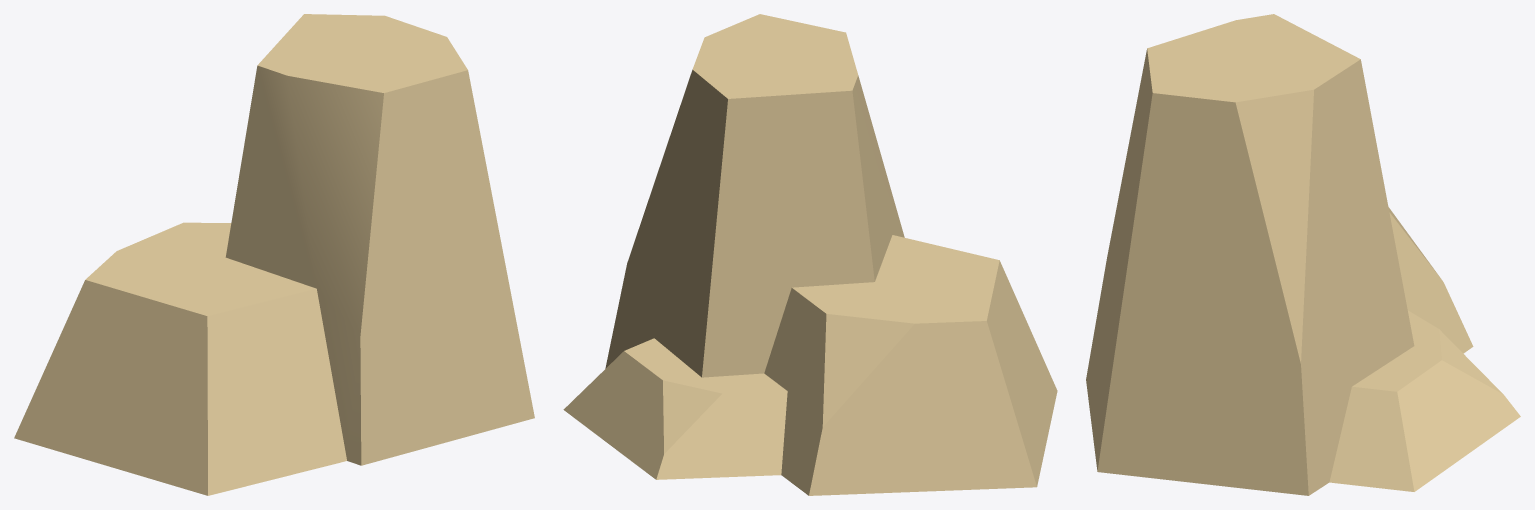
The model's file is Rock-iEKF2FGasY.glb.
3 views of the same model, side by side, from view 1: azimuth 30°, elevation 25°; view 2: azimuth 150°, elevation 25°; view 3: azimuth 270°, elevation 25° (orthographic). The views are drawn at different scales.
Parts seen in each view (by area): view 1: rockA; view 2: rockA; view 3: rockA.
Boxes of the visible parts, bbox=[...] form: rockA: bbox=[14, 14, 534, 495]; rockA: bbox=[563, 14, 1057, 495]; rockA: bbox=[1086, 14, 1520, 495].
Size of the model in its own units: 0.5552 by 0.3927 by 0.4324.
